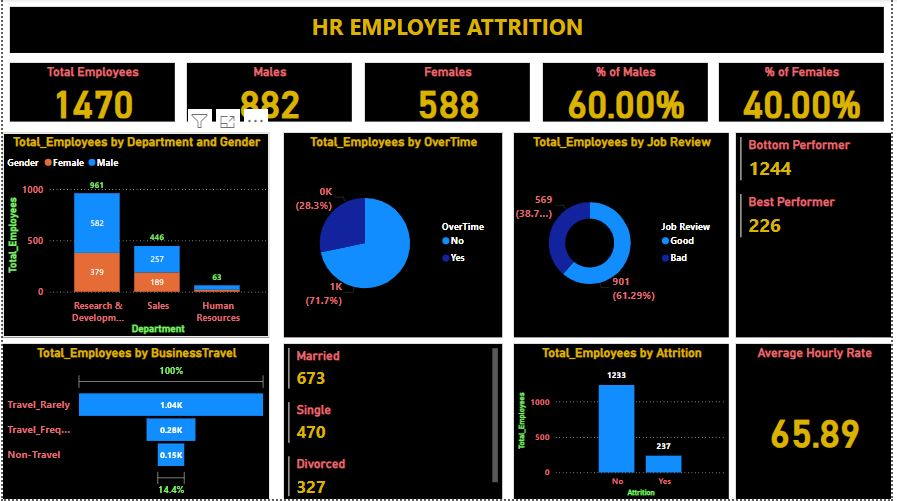

The page's visual inventory and layout, read from the dashboard file:
{"tool":"powerbi","page":{"name":"Page 1","canvas":[1280,720],"ordinal":0},"visuals":[{"type":"textbox","box":[10.1,11.8,1258.2,65.5],"z":0},{"type":"card","title":"Total Employees","fields":{"Values":["HR-emp-attrition dataset.Total_Employees"]},"box":[10.1,92.4,236.9,84],"z":1000},{"type":"card","title":"Males","fields":{"Values":["HR-emp-attrition dataset.Total_Males"]},"box":[265.4,92.4,236.9,84],"z":2000},{"type":"card","title":"Females","fields":{"Values":["HR-emp-attrition dataset.Total_Females"]},"box":[520.7,92.4,236.9,84],"z":3000},{"type":"card","title":"% of Males","fields":{"Values":["HR-emp-attrition dataset.Male %"]},"box":[777.7,92.4,236.9,84],"z":4000},{"type":"card","title":"% of Females","fields":{"Values":["HR-emp-attrition dataset.Female %"]},"box":[1031.4,92.4,236.9,84],"z":5000},{"type":"columnChart","fields":{"Y":["HR-emp-attrition dataset.Total_Employees"],"Category":["HR-emp-attrition dataset.Department"],"Series":["HR-emp-attrition dataset.Gender"]},"box":[0,193.2,383,294],"z":6000},{"type":"pieChart","fields":{"Category":["HR-emp-attrition dataset.OverTime"],"Y":["HR-emp-attrition dataset.Total_Employees"]},"box":[404.8,193.2,314.1,294],"z":7000},{"type":"donutChart","fields":{"Category":["HR-emp-attrition dataset.Job Review"],"Y":["HR-emp-attrition dataset.Total_Employees"]},"box":[735.7,193.2,309.1,294],"z":8000},{"type":"multiRowCard","fields":{"Values":["HR-emp-attrition dataset.Total_Employees","HR-emp-attrition dataset.Best/Bottom Performers"]},"box":[1054.9,193.2,225.1,294],"z":9000},{"type":"funnel","fields":{"Category":["HR-emp-attrition dataset.BusinessTravel"],"Y":["HR-emp-attrition dataset.Total_Employees"]},"box":[0,496.2,383.5,223.7],"z":10000},{"type":"multiRowCard","fields":{"Values":["HR-emp-attrition dataset.Total_Employees","HR-emp-attrition dataset.MaritalStatus"]},"box":[405,497,314,223],"z":11000},{"type":"columnChart","fields":{"Y":["HR-emp-attrition dataset.Total_Employees"],"Category":["HR-emp-attrition dataset.Attrition"]},"box":[736,497,309,223],"z":12000},{"type":"card","title":"Average Hourly Rate","fields":{"Values":["Avg(HR-emp-attrition dataset.HourlyRate)"]},"box":[1055,497,225,223],"z":13000}]}

Visuals, with their boxes in screenshot pixels (x1, y1, x2, y2), scaled from the page's 1280x720 canvas onto the 897x501 screenshot:
textbox: (left=7, top=8, right=889, bottom=54)
"Total Employees" card: (left=7, top=64, right=173, bottom=123)
"Males" card: (left=186, top=64, right=352, bottom=123)
"Females" card: (left=365, top=64, right=531, bottom=123)
"% of Males" card: (left=545, top=64, right=711, bottom=123)
"% of Females" card: (left=723, top=64, right=889, bottom=123)
columnChart - HR-emp-attrition dataset.Total_Employees x HR-emp-attrition dataset.Department: (left=0, top=134, right=268, bottom=339)
pieChart - HR-emp-attrition dataset.OverTime x HR-emp-attrition dataset.Total_Employees: (left=284, top=134, right=504, bottom=339)
donutChart - HR-emp-attrition dataset.Job Review x HR-emp-attrition dataset.Total_Employees: (left=516, top=134, right=732, bottom=339)
multiRowCard - HR-emp-attrition dataset.Total_Employees x HR-emp-attrition dataset.Best/Bottom Performers: (left=739, top=134, right=896, bottom=339)
funnel - HR-emp-attrition dataset.BusinessTravel x HR-emp-attrition dataset.Total_Employees: (left=0, top=345, right=269, bottom=500)
multiRowCard - HR-emp-attrition dataset.Total_Employees x HR-emp-attrition dataset.MaritalStatus: (left=284, top=346, right=504, bottom=500)
columnChart - HR-emp-attrition dataset.Total_Employees x HR-emp-attrition dataset.Attrition: (left=516, top=346, right=732, bottom=500)
"Average Hourly Rate" card: (left=739, top=346, right=896, bottom=500)
